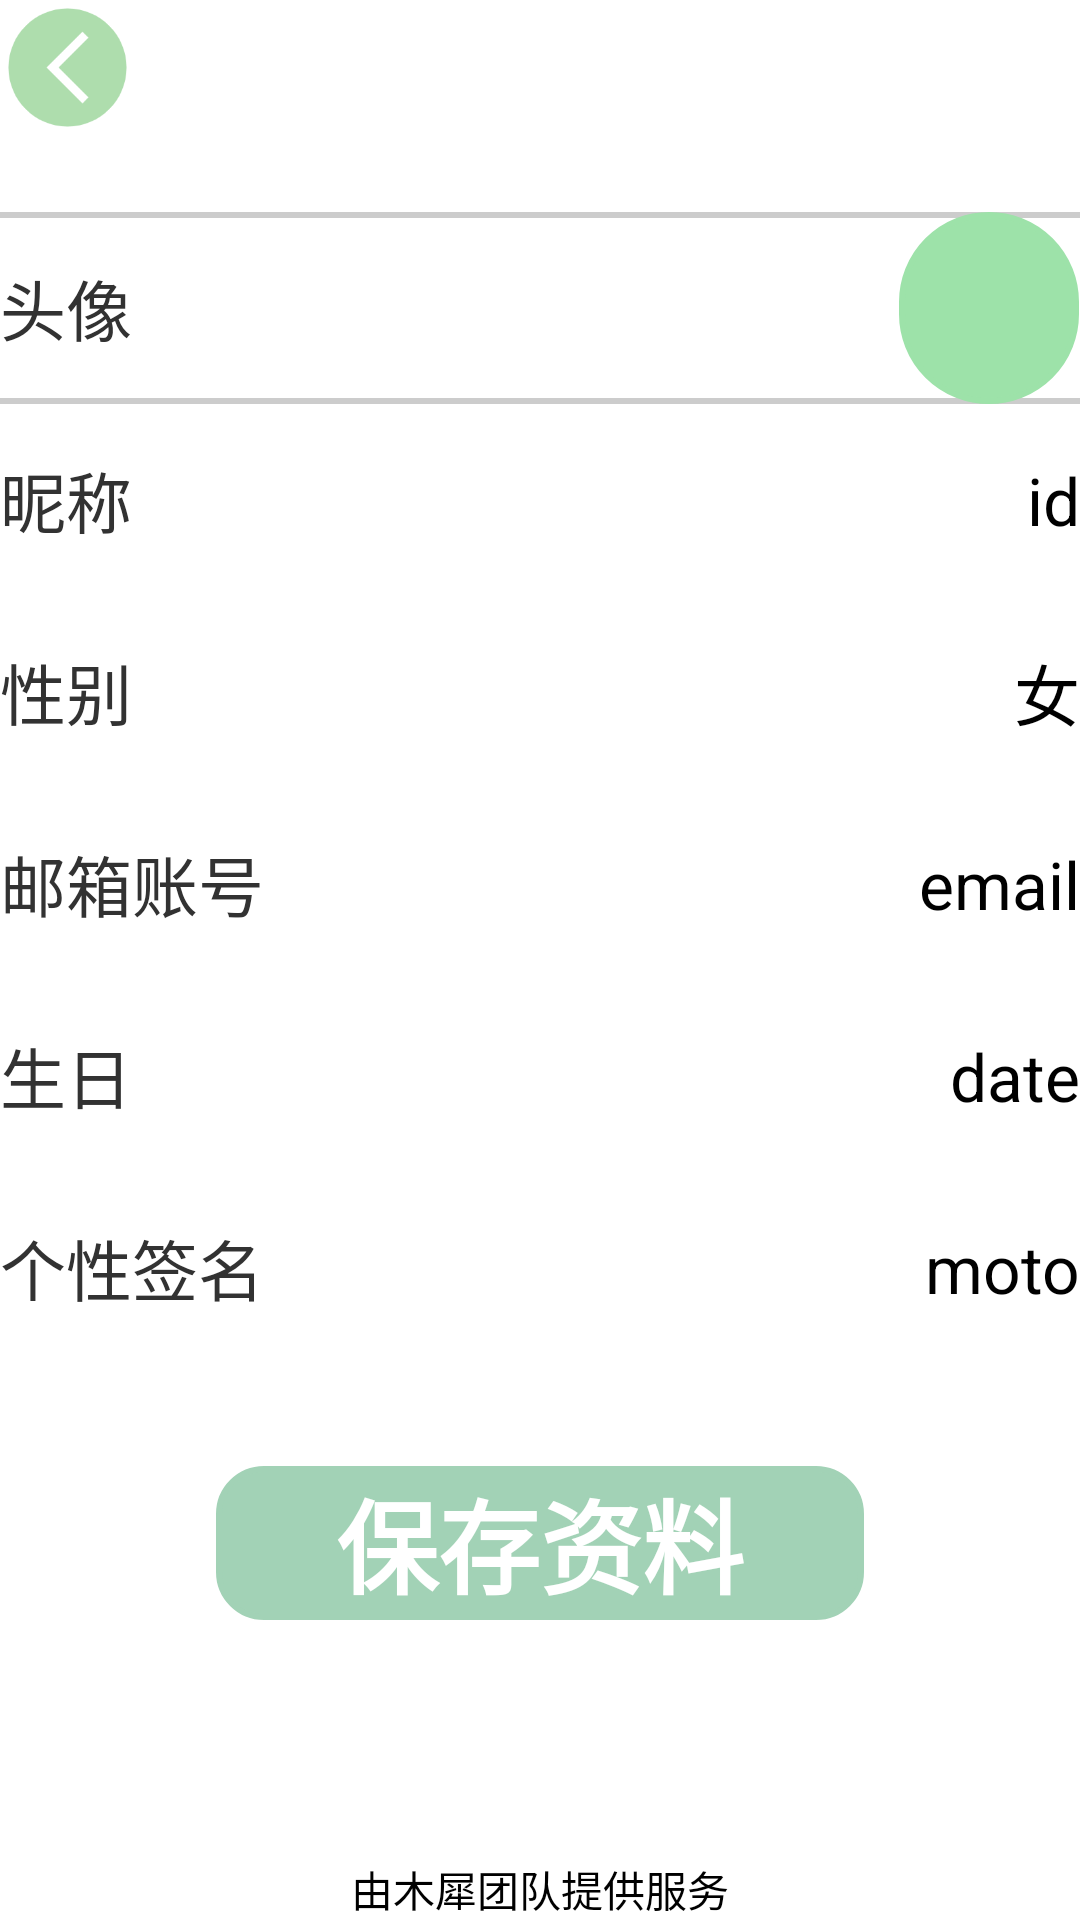

Icons on this 1080 × 1920 Android screen, each with its box as box(x1, y1, x2, y2):
arrow back my page: box(8, 8, 127, 127)
